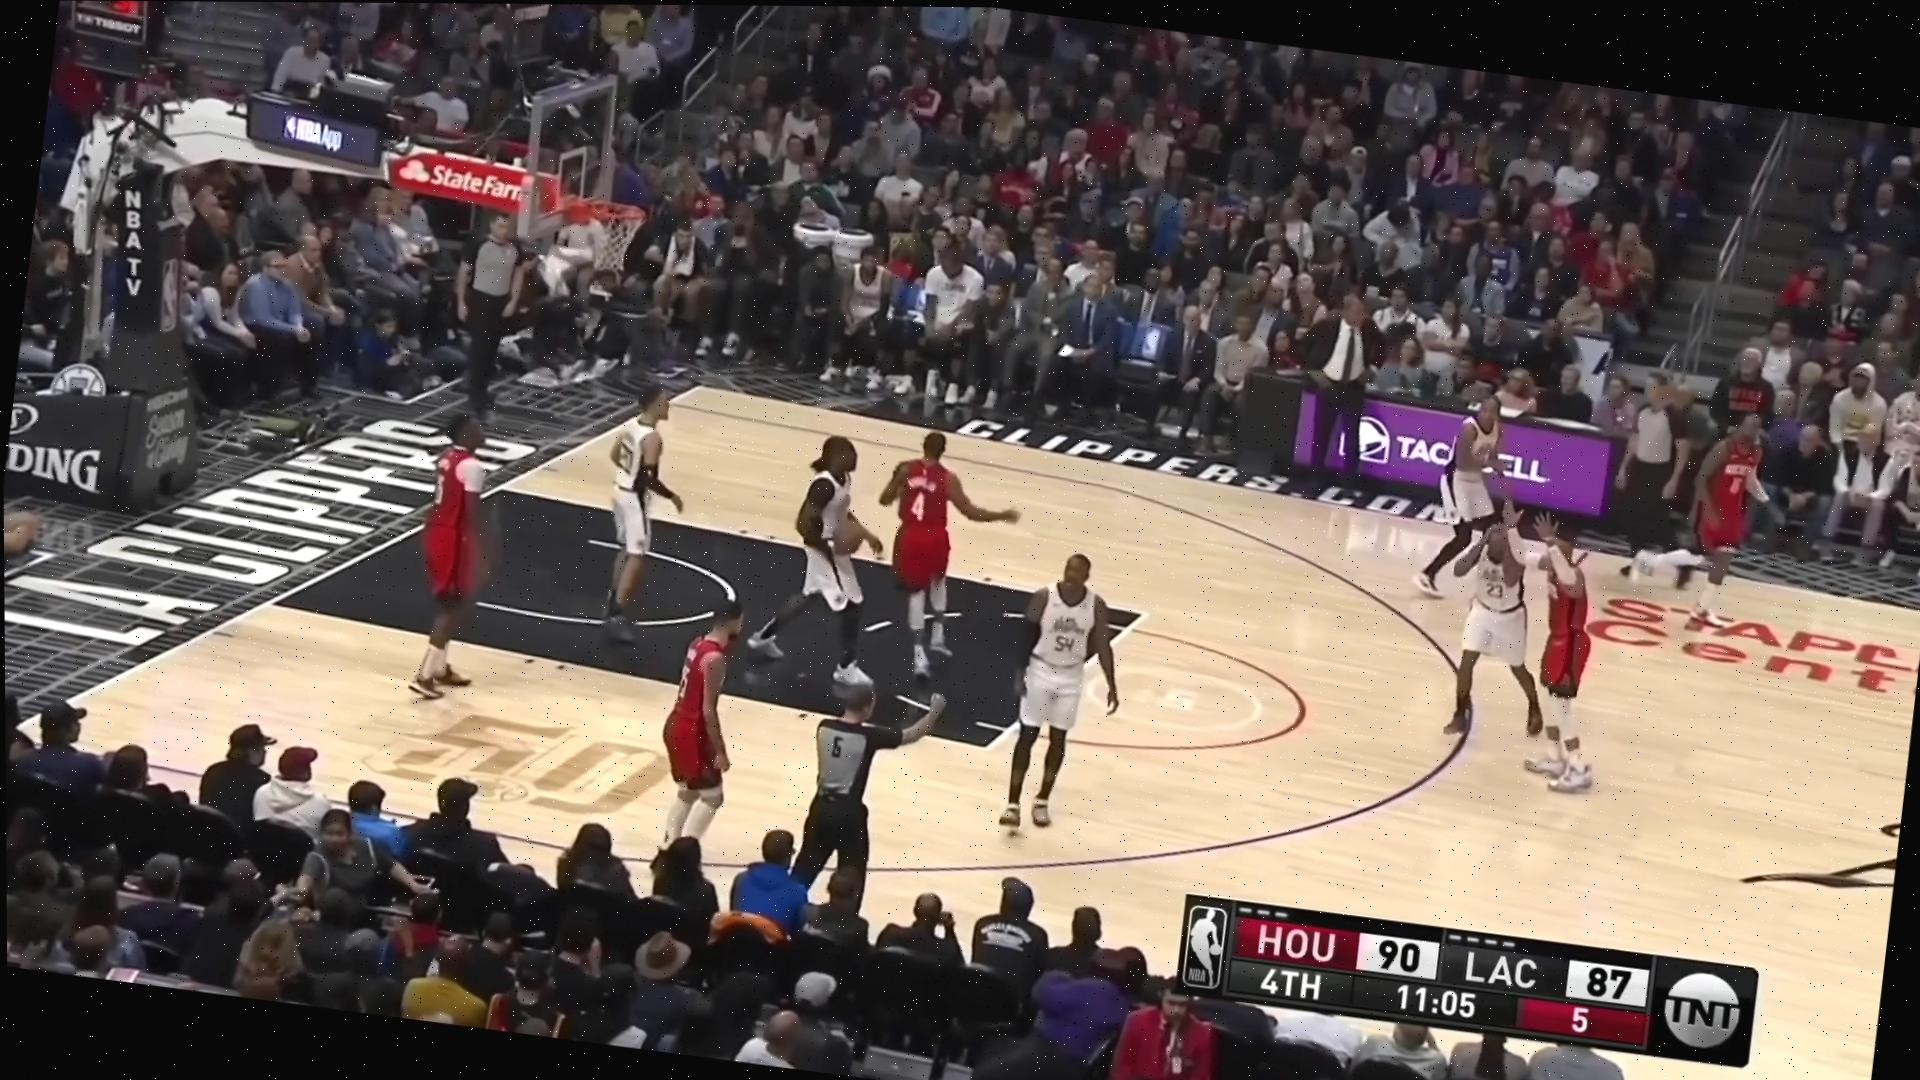no_foul: (728, 380, 996, 696)
